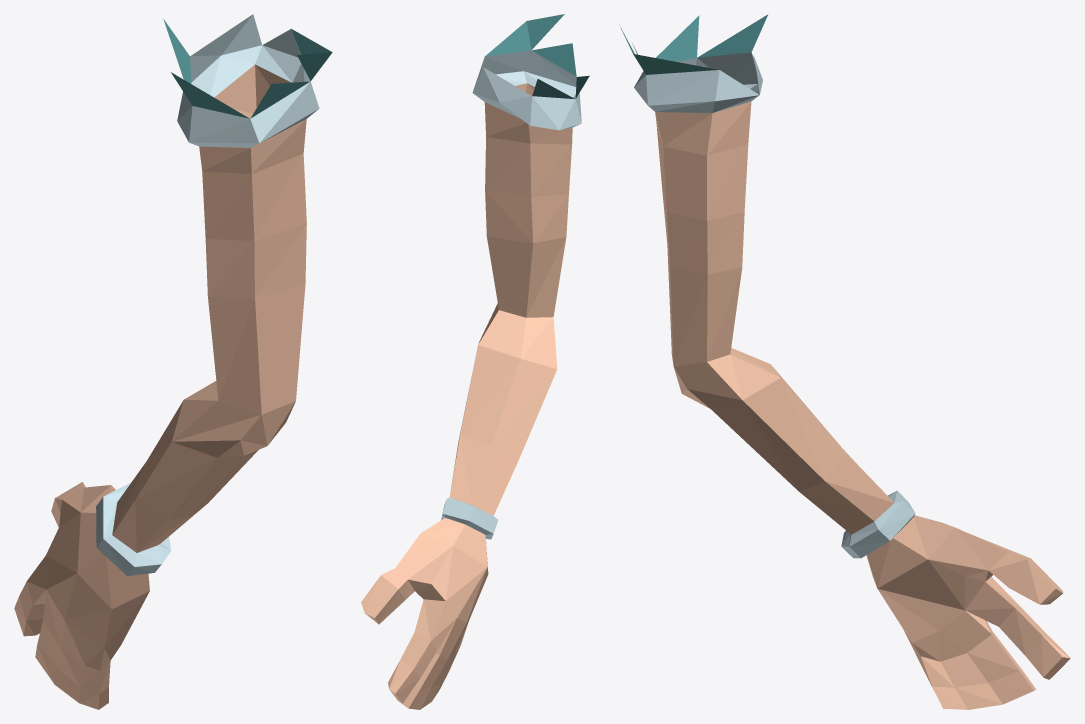
Rendered from Mother_01_ArmL_40.obj.
3 renders of one model, left to right at view 1: azimuth 30°, elevation 25°; view 2: azimuth 150°, elevation 25°; view 3: azimuth 270°, elevation 25°, orthographic. The views are drawn at different scales.
Parts seen in each view (by area): view 1: Mother_01_ArmL_40; view 2: Mother_01_ArmL_40; view 3: Mother_01_ArmL_40.
Boxes of the visible parts, x1,y1,x2,y2 form: Mother_01_ArmL_40: (14, 14, 332, 709); Mother_01_ArmL_40: (361, 14, 589, 709); Mother_01_ArmL_40: (619, 14, 1070, 709).
Size of the model in its own units: 0.1419 by 0.756 by 0.4466.
1 material, 1 textured.
